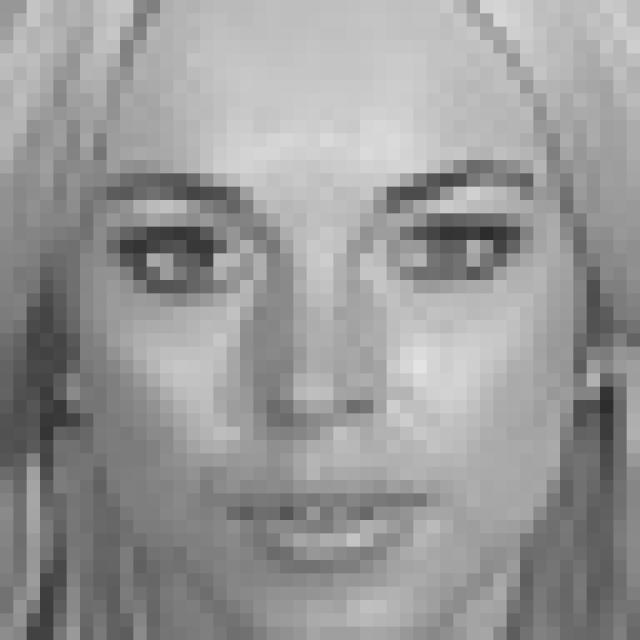neutral: (96, 144, 542, 582)
